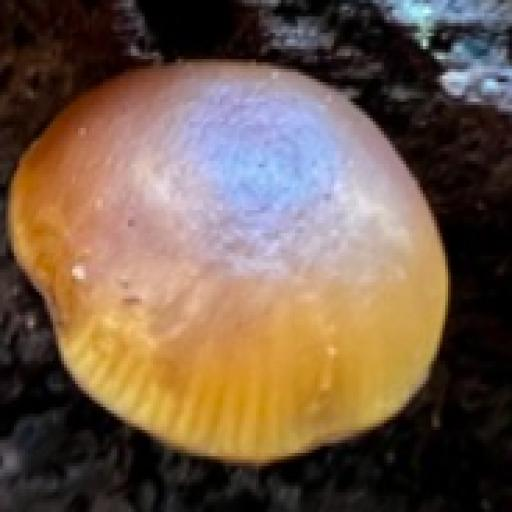Funeral Bell: (6, 58, 453, 467)
